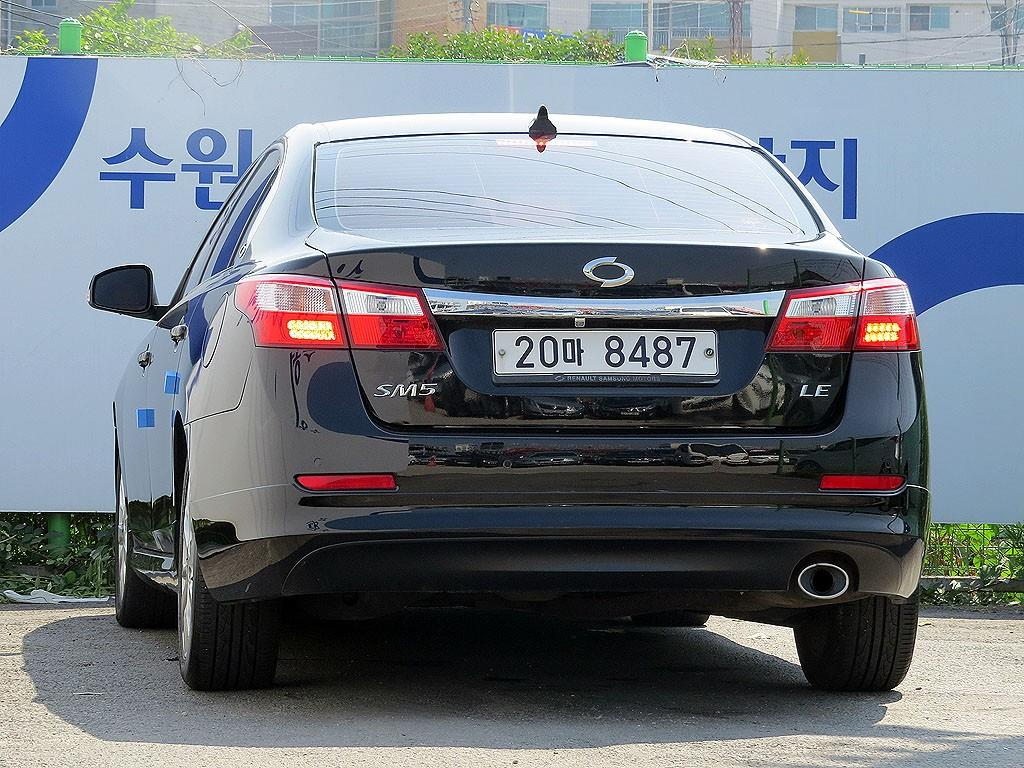plate: (495, 332, 715, 374)
